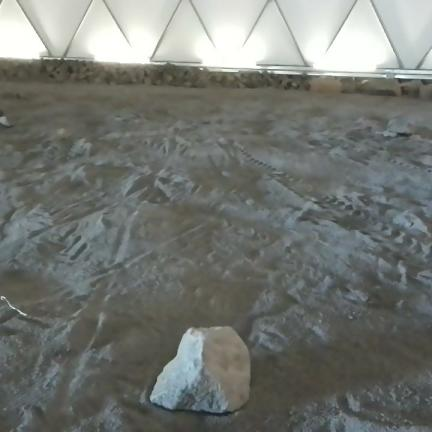Rock: (150, 327, 250, 413), (386, 117, 413, 135), (0, 116, 12, 127)
